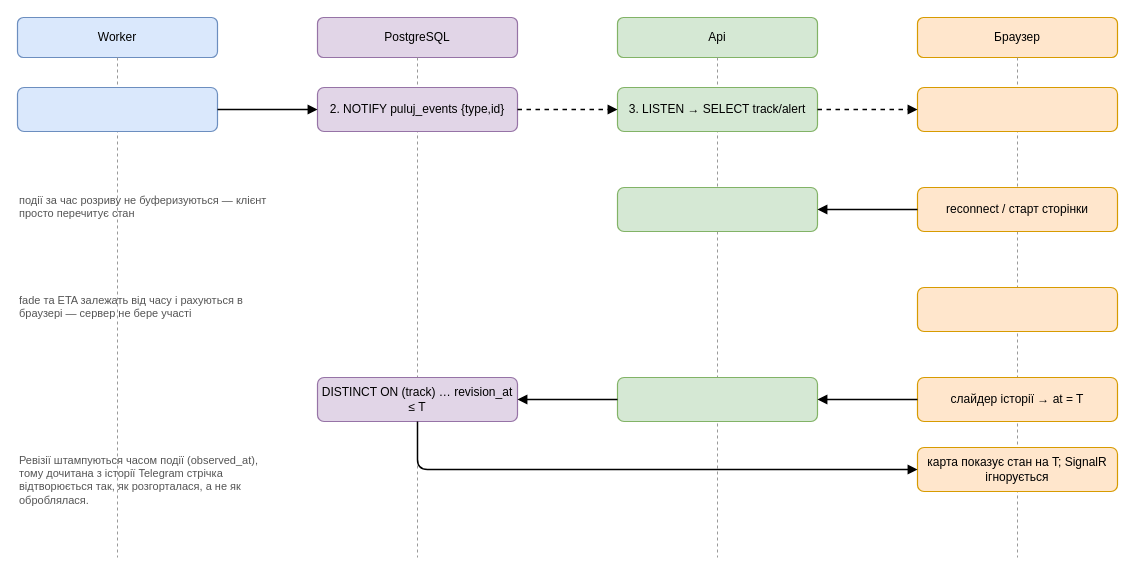
Image size: 1136x577. Some labels were removed from this diagram. The centre of each missing label's shape, as x and y in pixels:
"1. COMMIT транзакції повідомлення" goes at (x=117, y=109).
"4. SignalR TrackUpserted → store → карта" goes at (x=1017, y=109).
"GET /api/snapshot (live)" goes at (x=717, y=209).
"GET /api/snapshot?at=T" goes at (x=717, y=399).
"кожні 15 с: tick()" goes at (x=1017, y=309).
